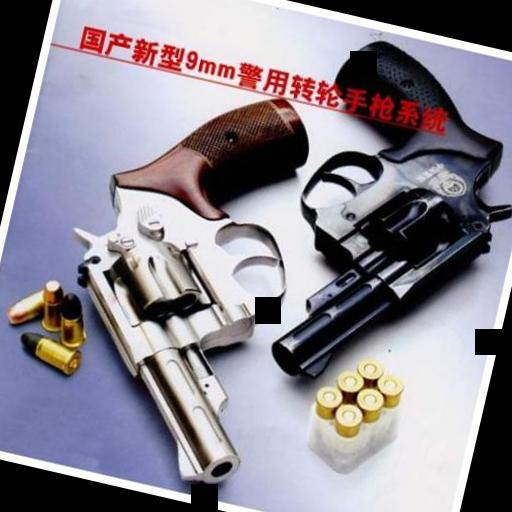Handgun: (22, 54, 326, 494), (260, 28, 512, 415)
